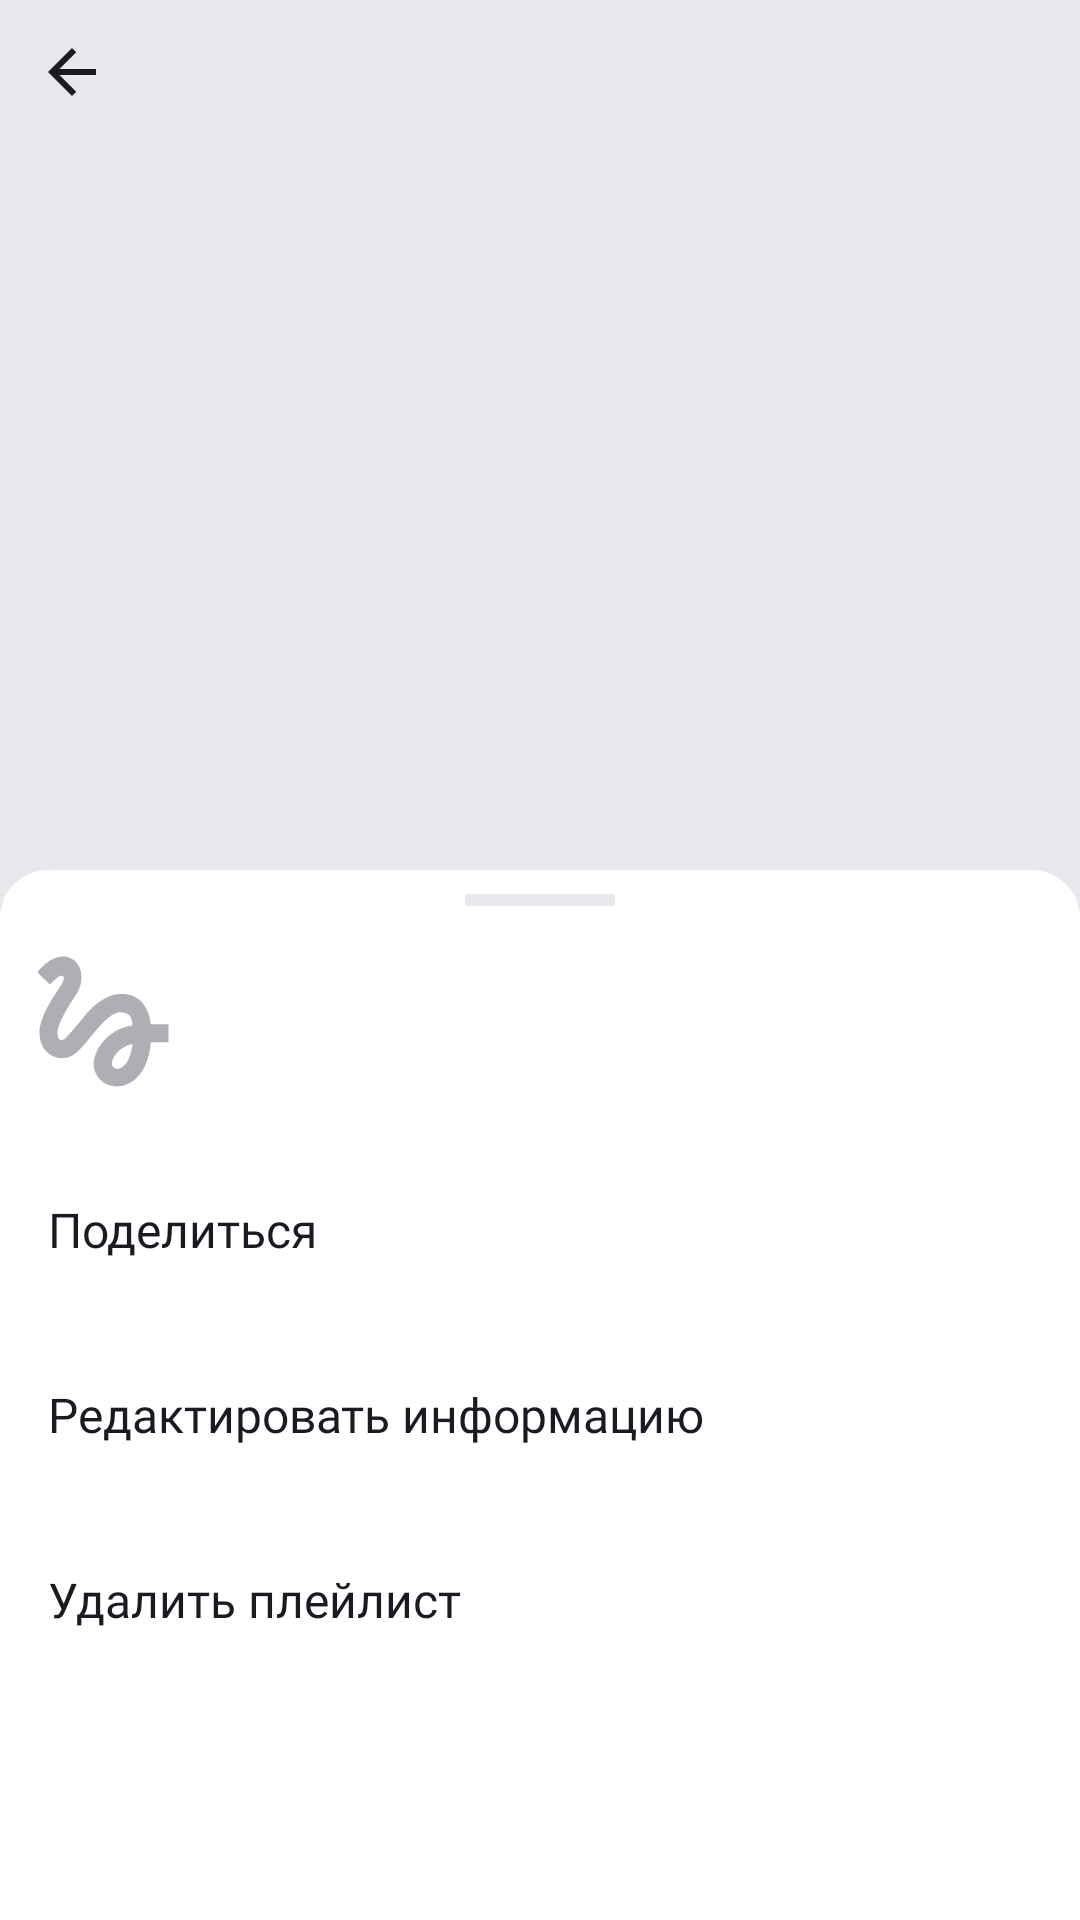

Screen size 1080*1920. Icon name, then its box in pixels as rect(x1, y1, x2, y2):
arrow back: rect(48, 48, 96, 96)
